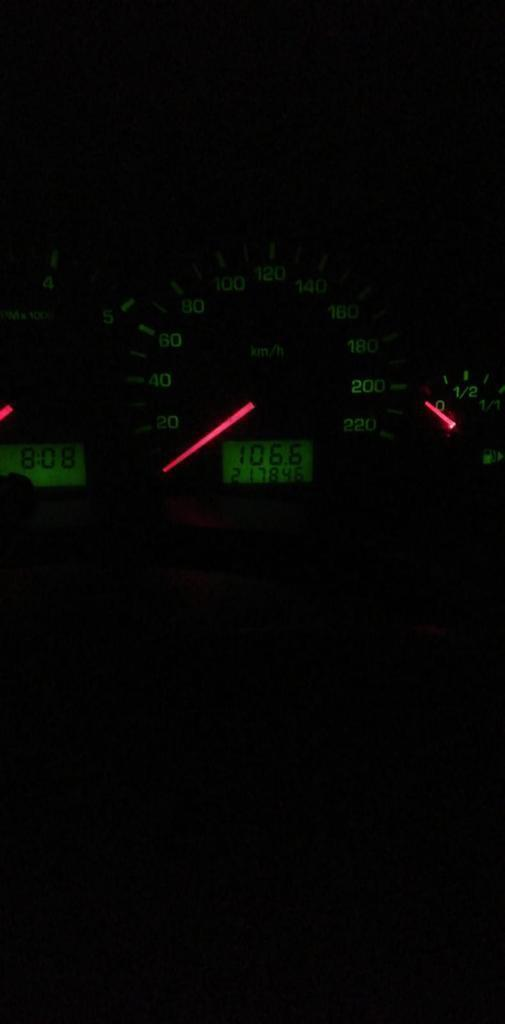,: (283, 460, 288, 465)
0: (248, 443, 264, 465)
1: (238, 444, 244, 464), (249, 466, 253, 483)
2: (230, 467, 240, 483)
4: (281, 466, 291, 481)
6: (268, 443, 283, 465), (288, 442, 302, 464), (294, 466, 303, 481)
7: (257, 466, 265, 482)
8: (268, 467, 278, 482)
odometer: (218, 437, 315, 486)
